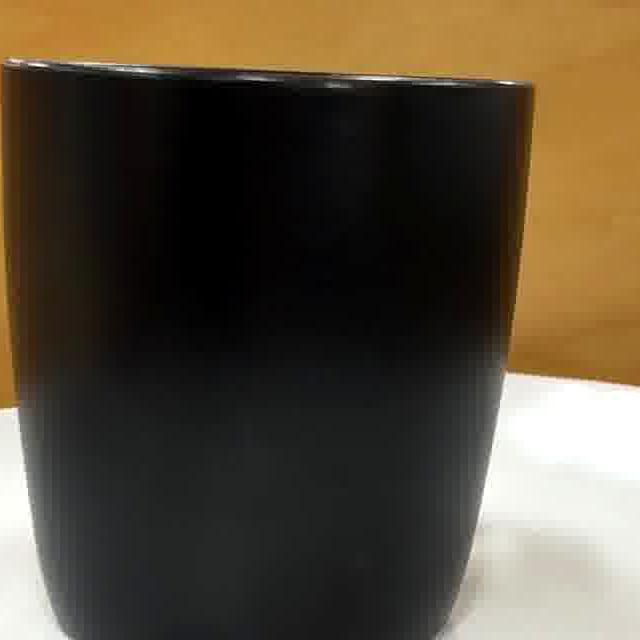cup: (10, 68, 528, 640)
